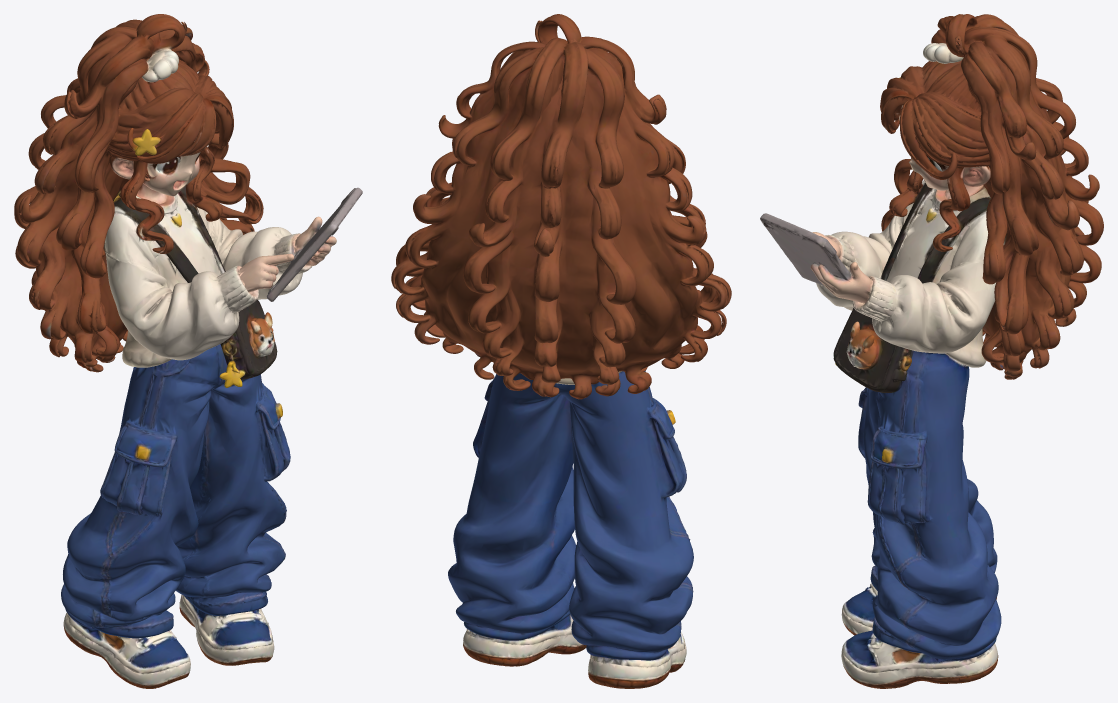
Rendered from equipment-cute-girl.glb.
The picture shows the model from 3 angles, left to right: view 1: azimuth 30°, elevation 25°; view 2: azimuth 150°, elevation 25°; view 3: azimuth 270°, elevation 25°; orthographic projection. The views are drawn at different scales.
Visible parts, largest first — view 1: tripo_node_ed85936f-ecbf-40a0-bdf2-5895635ccb0e; view 2: tripo_node_ed85936f-ecbf-40a0-bdf2-5895635ccb0e; view 3: tripo_node_ed85936f-ecbf-40a0-bdf2-5895635ccb0e.
Boxes of the visible parts, x1,y1,x2,y2 form: tripo_node_ed85936f-ecbf-40a0-bdf2-5895635ccb0e: (14, 14, 362, 688); tripo_node_ed85936f-ecbf-40a0-bdf2-5895635ccb0e: (391, 14, 731, 688); tripo_node_ed85936f-ecbf-40a0-bdf2-5895635ccb0e: (760, 14, 1103, 688).
Size of the model in its own units: 0.4542 by 0.9792 by 0.4759.
1 material, 1 textured.
